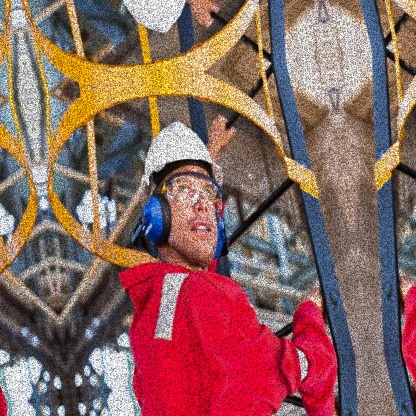white: (126, 110, 228, 189)
